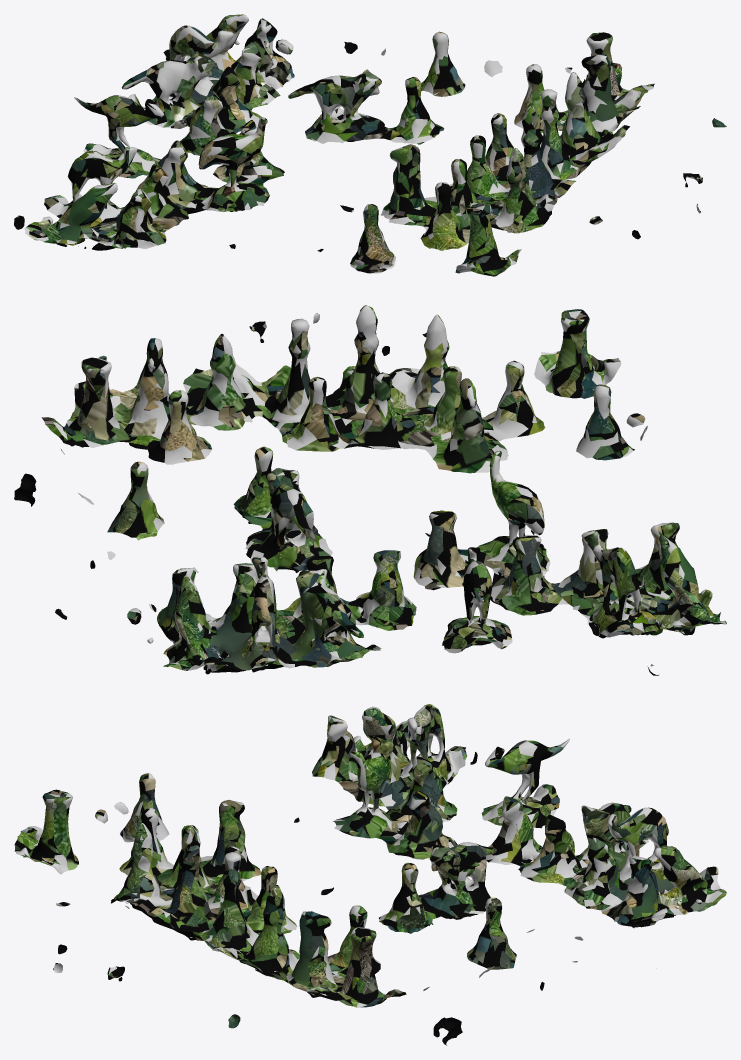
File: mesh_lowpoly.obj
3 views of the same model, one above another, from view 1: azimuth 30°, elevation 25°; view 2: azimuth 150°, elevation 25°; view 3: azimuth 270°, elevation 25° (orthographic). The views are drawn at different scales.
Size of the model in its own units: 2.73 by 0.5482 by 2.56.
